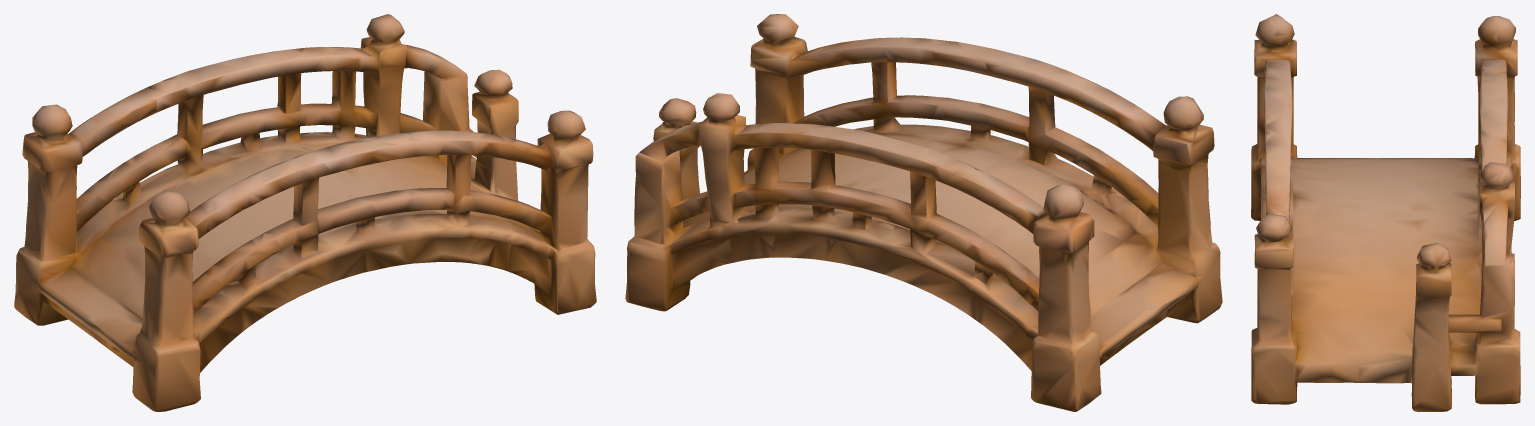
File: bridge-low.glb
3 views of the same model, side by side, from view 1: azimuth 30°, elevation 25°; view 2: azimuth 150°, elevation 25°; view 3: azimuth 270°, elevation 25° (orthographic). The views are drawn at different scales.
Parts seen in each view (by area): view 1: bridge-low; view 2: bridge-low; view 3: bridge-low.
Boxes of the visible parts, bbox=[...] form: bridge-low: bbox=[14, 14, 596, 411]; bridge-low: bbox=[625, 14, 1222, 411]; bridge-low: bbox=[1251, 14, 1520, 411].
Bounding box in the file's own units: 1 × 0.462 × 0.5469.
